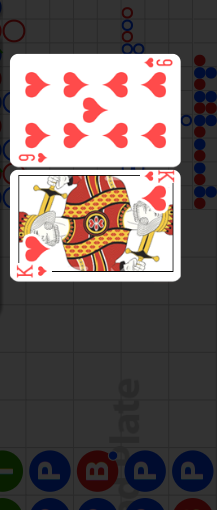9H: (142, 56, 174, 70)
KH: (15, 264, 48, 279)
